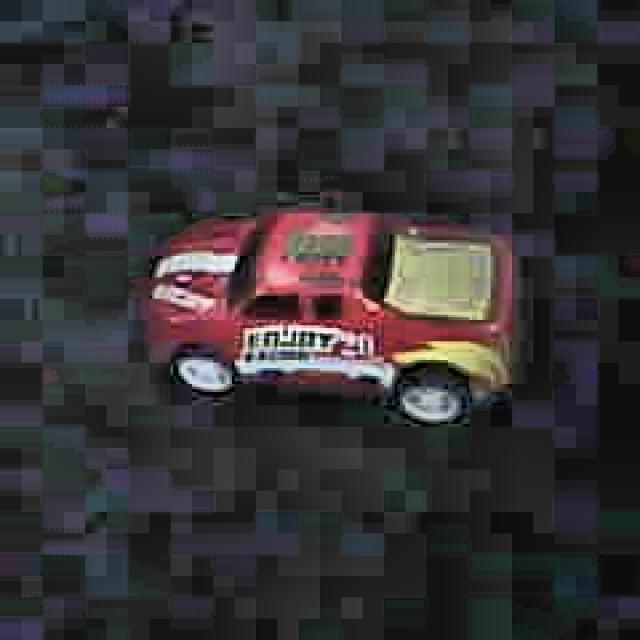car: (143, 199, 520, 432)
